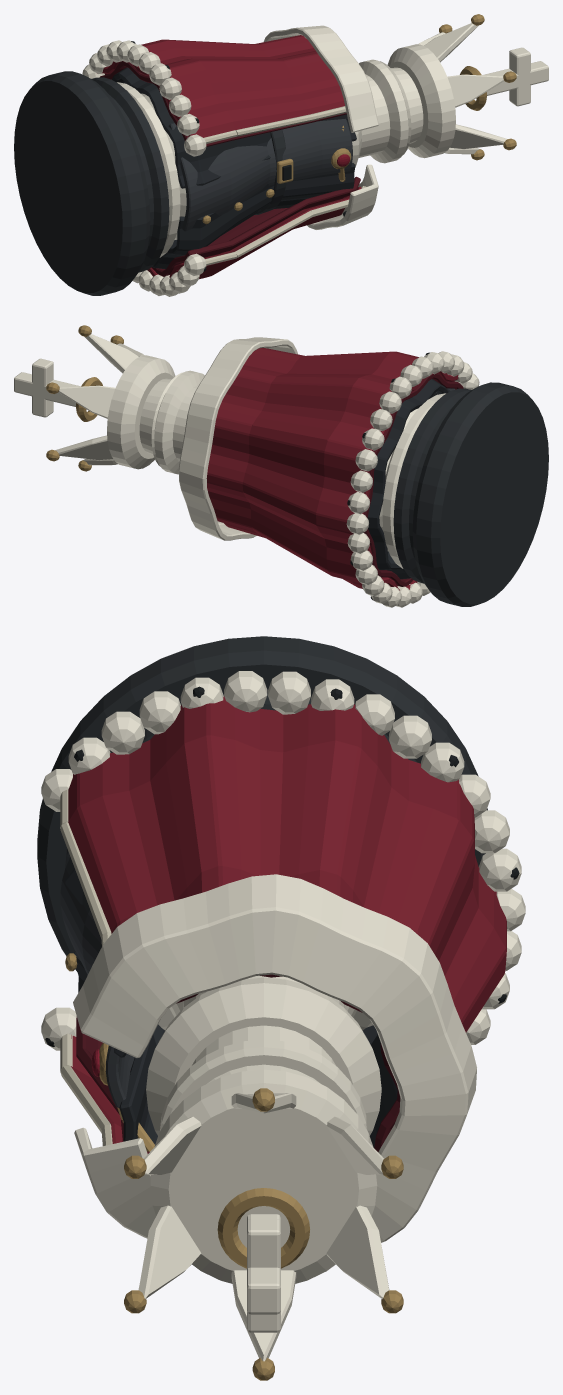
Rendered from CHR_king_fallen.glb.
3 views of the same model, one above another, from view 1: azimuth 30°, elevation 25°; view 2: azimuth 150°, elevation 25°; view 3: azimuth 270°, elevation 25° (orthographic). The views are drawn at different scales.
Parts seen in each view (by area): view 1: CHR_king__black.001, CHR_king__ivory.001, CHR_king__red.001, CHR_king__fold.001, CHR_king__cloth.001, CHR_king__redshadow.001, CHR_king__edge.001, CHR_king__brass.001; view 2: CHR_king__red.001, CHR_king__ivory.001, CHR_king__black.001, CHR_king__cloth.001, CHR_king__redshadow.001, CHR_king__brass.001; view 3: CHR_king__ivory.001, CHR_king__red.001, CHR_king__black.001, CHR_king__brass.001, CHR_king__cloth.001, CHR_king__fold.001, CHR_king__edge.001, CHR_king__redshadow.001.
Part boxes in pixels (x1=…): CHR_king__black.001: x1=14, y1=71, x2=286, y2=295; CHR_king__ivory.001: x1=82, y1=23, x2=548, y2=296; CHR_king__red.001: x1=97, y1=35, x2=361, y2=279; CHR_king__fold.001: x1=168, y1=118, x2=352, y2=231; CHR_king__cloth.001: x1=112, y1=67, x2=356, y2=268; CHR_king__redshadow.001: x1=99, y1=61, x2=360, y2=276; CHR_king__edge.001: x1=204, y1=106, x2=365, y2=265; CHR_king__brass.001: x1=202, y1=14, x2=516, y2=224; CHR_king__red.001: x1=206, y1=347, x2=458, y2=590; CHR_king__ivory.001: x1=14, y1=334, x2=479, y2=607; CHR_king__black.001: x1=393, y1=382, x2=548, y2=606; CHR_king__cloth.001: x1=367, y1=379, x2=453, y2=579; CHR_king__redshadow.001: x1=363, y1=373, x2=463, y2=586; CHR_king__brass.001: x1=46, y1=325, x2=123, y2=471; CHR_king__ivory.001: x1=41, y1=671, x2=525, y2=1361; CHR_king__red.001: x1=68, y1=696, x2=506, y2=1143; CHR_king__black.001: x1=37, y1=636, x2=487, y2=971; CHR_king__brass.001: x1=65, y1=953, x2=403, y2=1380; CHR_king__cloth.001: x1=65, y1=868, x2=397, y2=1147; CHR_king__fold.001: x1=60, y1=857, x2=134, y2=1107; CHR_king__edge.001: x1=60, y1=789, x2=112, y2=1145; CHR_king__redshadow.001: x1=76, y1=974, x2=400, y2=1153.
Bounding box in the file's own units: 2.15 × 1.02 × 0.9534.
